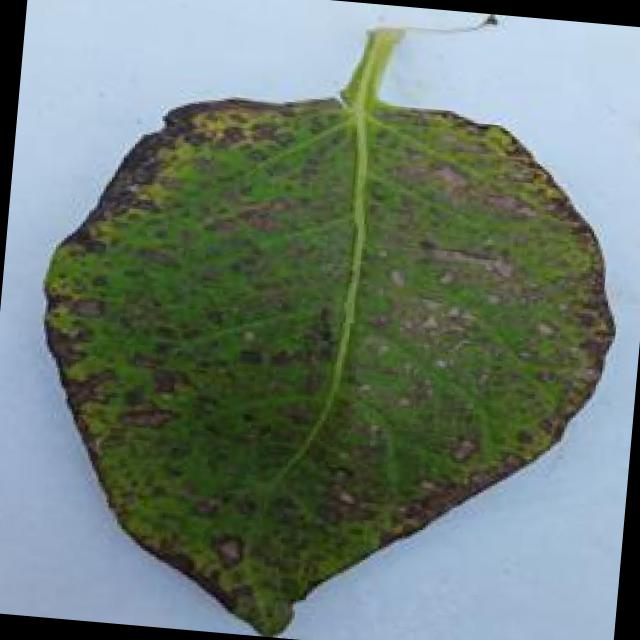Potato_Early_Blight: (7, 61, 636, 640)
